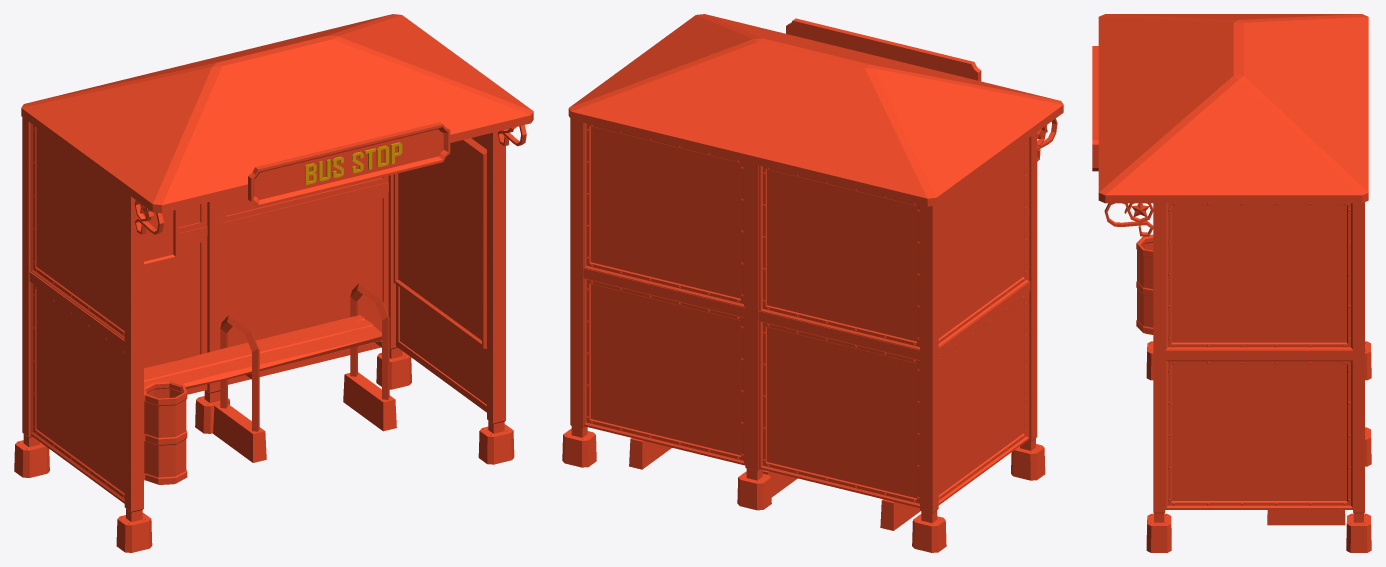
The model's file is SM_Bus_Stop_A_City.fbx.
3 views of the same model, side by side, from view 1: azimuth 30°, elevation 25°; view 2: azimuth 150°, elevation 25°; view 3: azimuth 270°, elevation 25° (orthographic). The views are drawn at different scales.
Visible parts, largest first — view 1: SM_Bus_Stop_A_City; view 2: SM_Bus_Stop_A_City; view 3: SM_Bus_Stop_A_City.
Part boxes in pixels (x1,y1,x2,y2): SM_Bus_Stop_A_City: [14, 14, 533, 552]; SM_Bus_Stop_A_City: [562, 14, 1063, 552]; SM_Bus_Stop_A_City: [1092, 14, 1371, 552].
Size of the model in its own units: 3.24 by 3.35 by 2.06.
